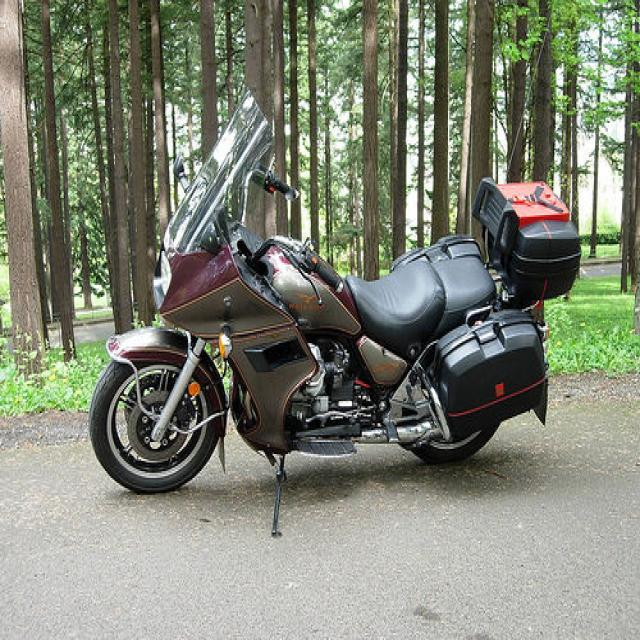motorcycle: (92, 81, 579, 538)
